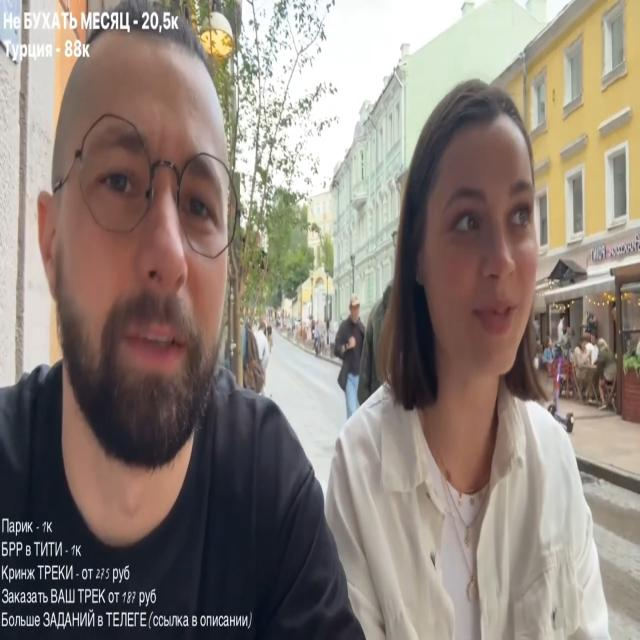Person: (0, 27, 359, 640), (316, 80, 624, 636), (335, 299, 369, 421), (571, 334, 599, 406), (312, 323, 324, 355)
